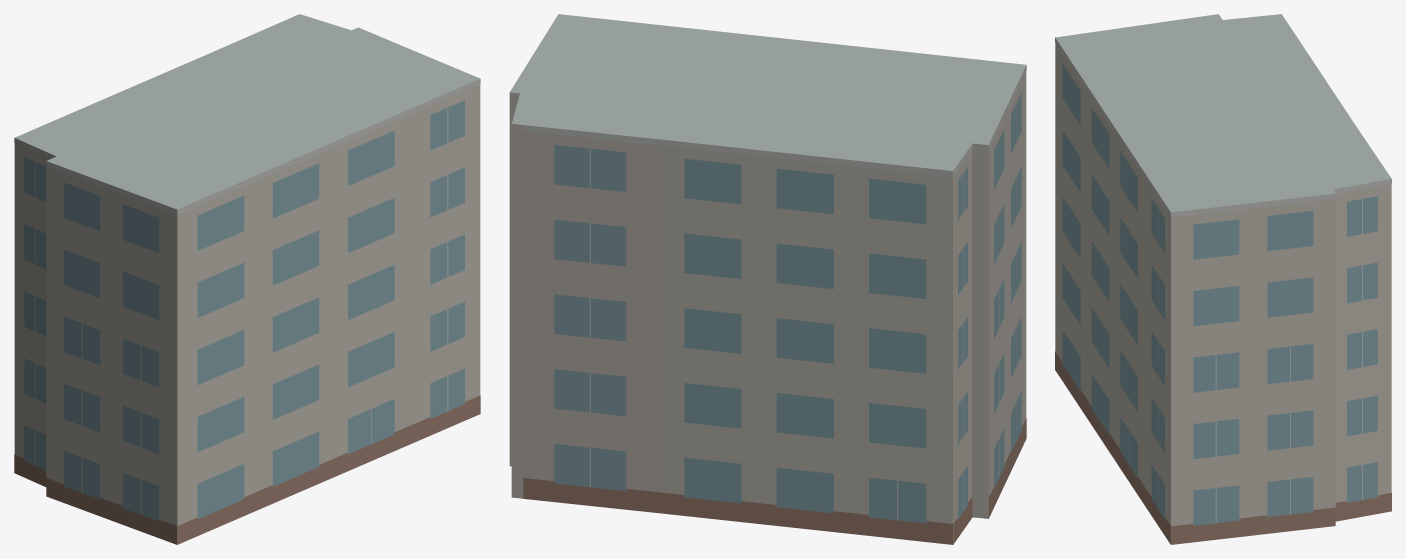
Rendered from survey-upis-32727484.glb.
3 renders of one model, left to right at view 1: azimuth 30°, elevation 25°; view 2: azimuth 150°, elevation 25°; view 3: azimuth 270°, elevation 25°, orthographic. The views are drawn at different scales.
Parts seen in each view (by area): view 1: survey-upis-32727484.tmp; view 2: survey-upis-32727484.tmp; view 3: survey-upis-32727484.tmp.
Part boxes in pixels (x1,y1,x2,y2): survey-upis-32727484.tmp: [14, 14, 480, 544]; survey-upis-32727484.tmp: [509, 14, 1026, 544]; survey-upis-32727484.tmp: [1055, 14, 1391, 544].
Bounding box in the file's own units: 19.52 × 15.25 × 13.99.
